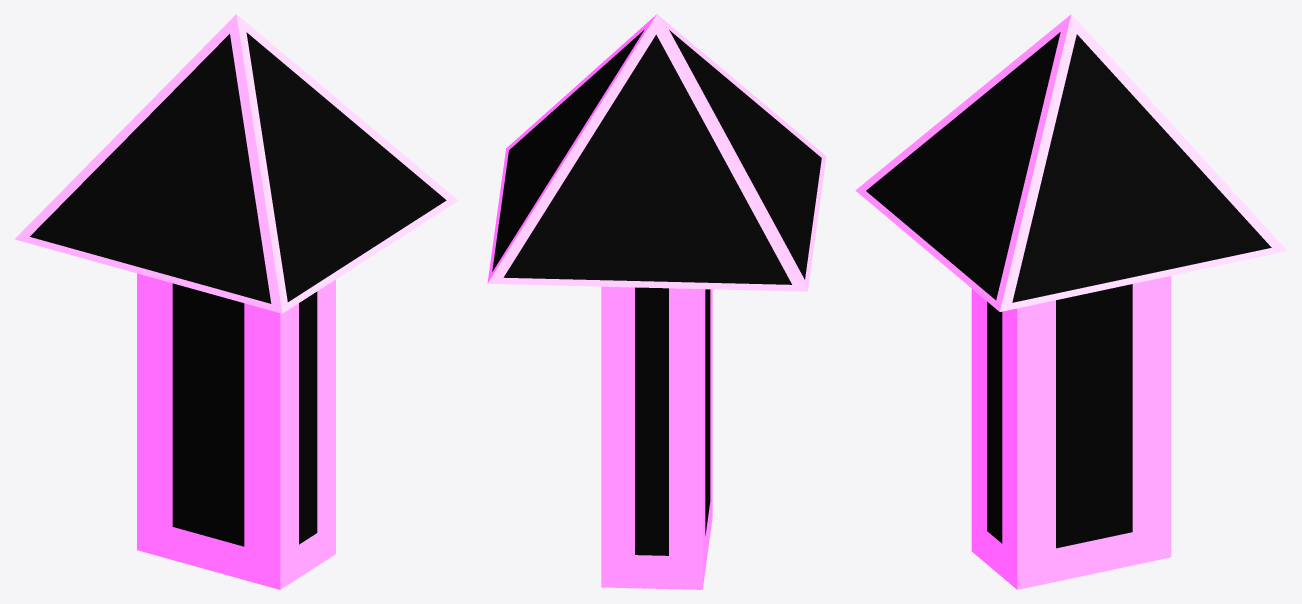
File: Speed Pickup.fbx
3 renders of one model, left to right at view 1: azimuth 30°, elevation 25°; view 2: azimuth 150°, elevation 25°; view 3: azimuth 270°, elevation 25°, orthographic.
Parts seen in each view (by area): view 1: Cone, Cube; view 2: Cone, Cube; view 3: Cone, Cube.
Part boxes in pixels (x1,y1,x2,y2): Cone: [15, 14, 458, 313]; Cube: [137, 273, 335, 589]; Cone: [487, 14, 826, 291]; Cube: [601, 286, 712, 589]; Cone: [855, 14, 1286, 311]; Cube: [971, 276, 1171, 589].
Bounding box in the file's own units: 83.58 × 115 × 83.58.
